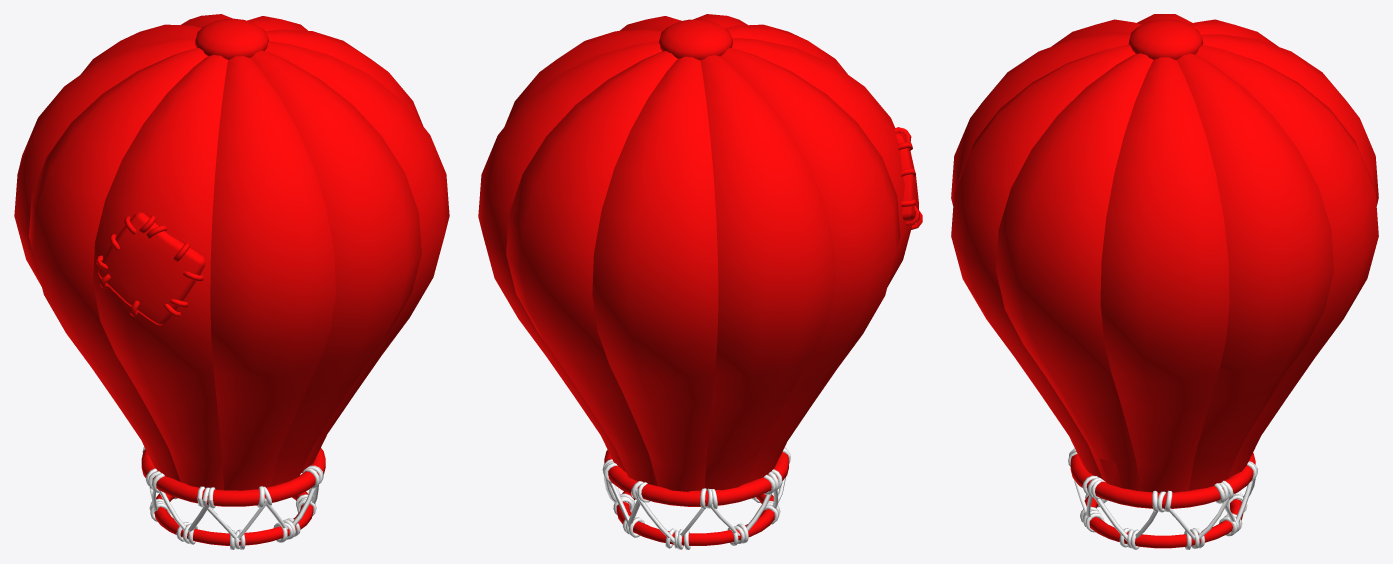
The model's file is air_balloon_balloon_01.fbx.
The picture shows the model from 3 angles, left to right: view 1: azimuth 30°, elevation 25°; view 2: azimuth 150°, elevation 25°; view 3: azimuth 270°, elevation 25°; orthographic projection.
Visible parts, largest first — view 1: air_balloon_balloon_03 (2); view 2: air_balloon_balloon_03 (2); view 3: air_balloon_balloon_03 (2).
Part boxes in pixels (bbox=[...]): air_balloon_balloon_03 (2): bbox=[14, 14, 449, 549]; air_balloon_balloon_03 (2): bbox=[478, 14, 922, 549]; air_balloon_balloon_03 (2): bbox=[951, 14, 1378, 549].
Bounding box in the file's own units: 13.19 × 16.56 × 12.98.
